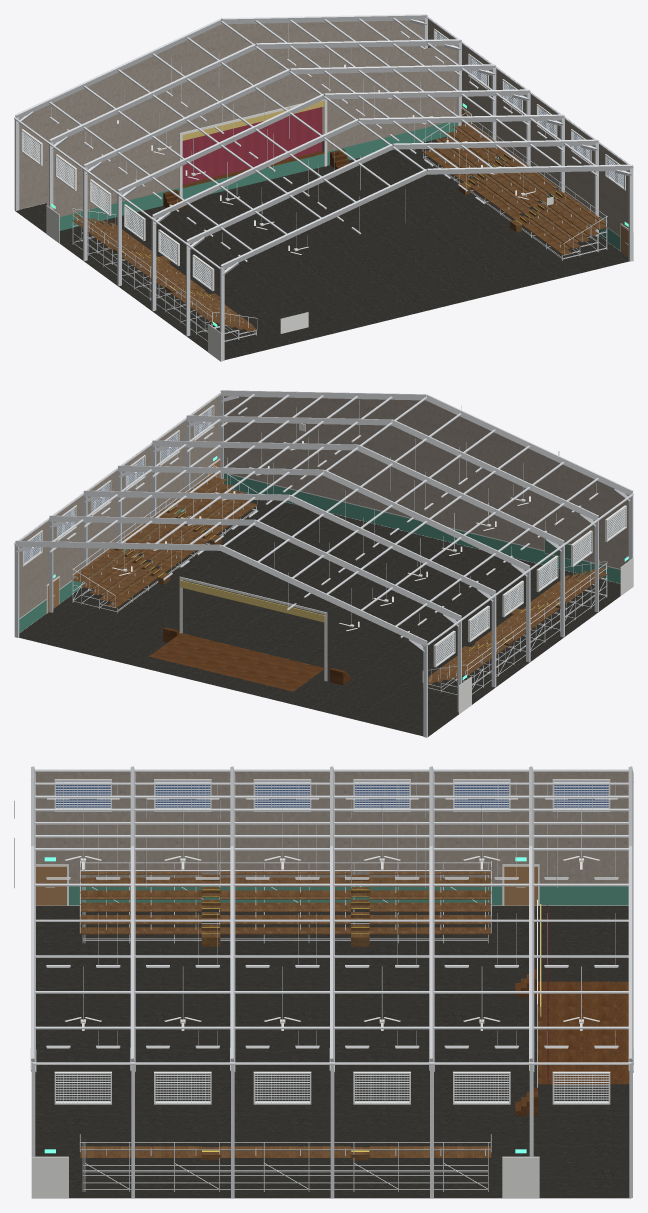
Rendered from badminton_hall.glb.
3 renders of one model, top to bottom at view 1: azimuth 30°, elevation 25°; view 2: azimuth 150°, elevation 25°; view 3: azimuth 270°, elevation 25°, orthographic. The views are drawn at different scales.
Parts seen in each view (by area): view 1: Floor.003, Plaster.003, Frame.003, Deck.004, Curtain.003, Plank.004, Trim.003, Dado.003, Louvre.003, Stage.003, Valance.003; view 2: Floor.003, Frame.003, Plaster.003, Deck.004, Dado.003, Stage.003, Trim.003, Plank.004, Louvre.003, Valance.003, Fan.003; view 3: Floor.003, Frame.003, Plaster.003, Deck.004, Louvre.003, Stage.003, Trim.003, Plank.004, Night.003, Dado.003, Door.003, Tube.003 (+1 smaller).
Boxes of the visible parts, box(x1,y1,x2,y2) form: Floor.003: box(15, 136, 629, 359); Plaster.003: box(15, 19, 628, 235); Frame.003: box(14, 14, 633, 361); Deck.004: box(72, 124, 607, 331); Curtain.003: box(182, 107, 322, 184); Plank.004: box(74, 122, 605, 326); Trim.003: box(21, 28, 633, 361); Dado.003: box(59, 122, 620, 250); Louvre.003: box(22, 31, 623, 288); Stage.003: box(163, 149, 349, 209); Valance.003: box(182, 100, 324, 140); Floor.003: box(19, 489, 620, 737); Frame.003: box(14, 390, 633, 737); Plaster.003: box(19, 393, 632, 618); Deck.004: box(72, 477, 607, 684); Dado.003: box(19, 473, 620, 632); Stage.003: box(149, 627, 350, 691); Trim.003: box(19, 405, 633, 714); Plank.004: box(74, 473, 605, 679); Louvre.003: box(24, 407, 625, 664); Valance.003: box(180, 580, 324, 622); Fan.003: box(112, 441, 530, 631); Floor.003: box(35, 905, 630, 1198); Frame.003: box(14, 766, 633, 1197); Plaster.003: box(35, 772, 628, 883); Deck.004: box(80, 874, 491, 1160); Louvre.003: box(56, 781, 608, 1101); Stage.003: box(515, 969, 629, 1115); Trim.003: box(31, 779, 610, 1198); Plank.004: box(80, 871, 491, 1149); Night.003: box(56, 781, 608, 807); Dado.003: box(69, 886, 628, 905); Door.003: box(36, 866, 537, 905); Tube.003: box(47, 798, 617, 1048).
Bounding box in the file's own units: 37.28 × 12.21 × 33.19.
20 materials, 6 textured.
